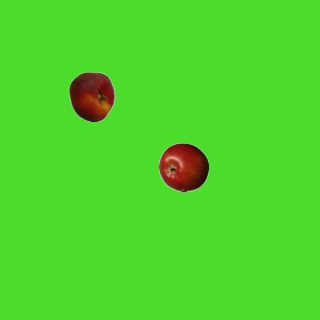Apple Braeburn: (158, 142, 208, 192)
Nectarine Flat: (66, 71, 116, 121)
